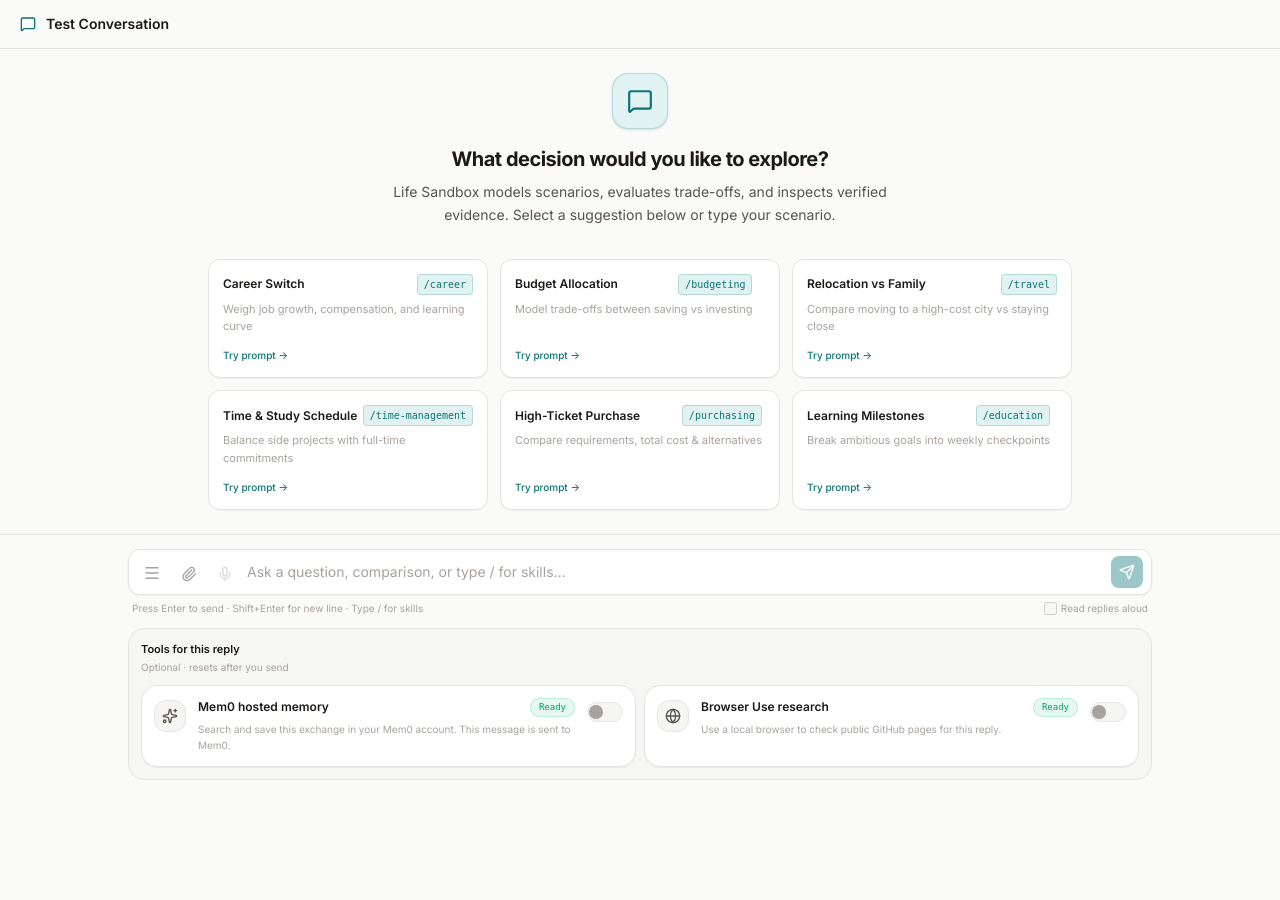
Chat Component Composer Controls (Issue #1) › displays Ready when configured and toggles On for this reply independently
Expected: the switch labelled "Browser Use research" is enabled, x1=644 y1=684 x2=1139 y2=766
Expected: the switch labelled "Browser Use research" is not checked, x1=644 y1=684 x2=1139 y2=766
// Toggle Mem0 switch
Click the switch labelled "Mem0 hosted memory" at (388, 726), box x1=141 y1=684 x2=636 y2=766
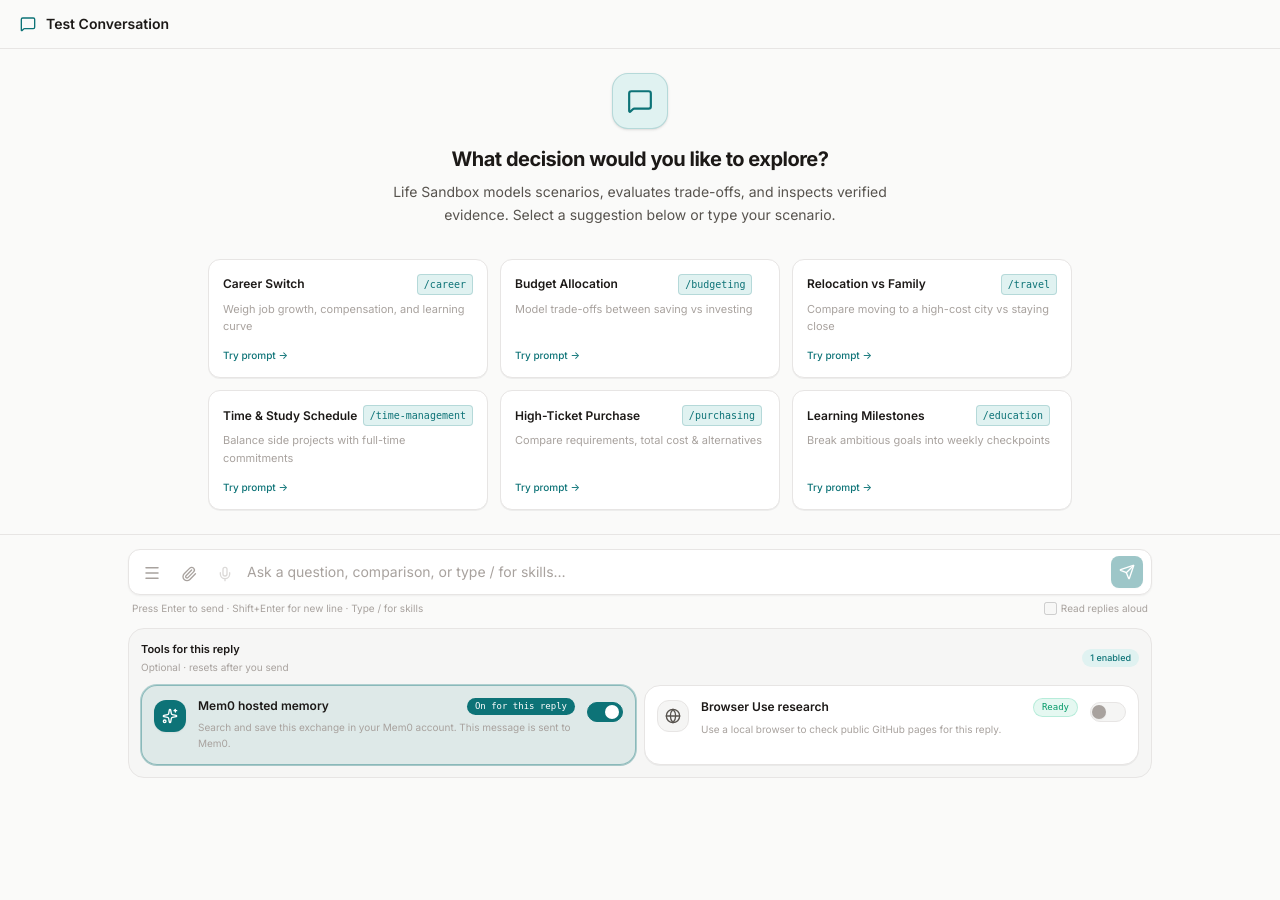
Expected: the switch labelled "Mem0 hosted memory" is checked, x1=141 y1=684 x2=636 y2=764
Expected: the text "On for this reply" is shown, x1=467 y1=698 x2=575 y2=715
Expected: the text "1 enabled" is shown, x1=1082 y1=649 x2=1139 y2=666
// Toggle Browser switch
Click the switch labelled "Browser Use research" at (892, 724), box x1=644 y1=684 x2=1139 y2=764
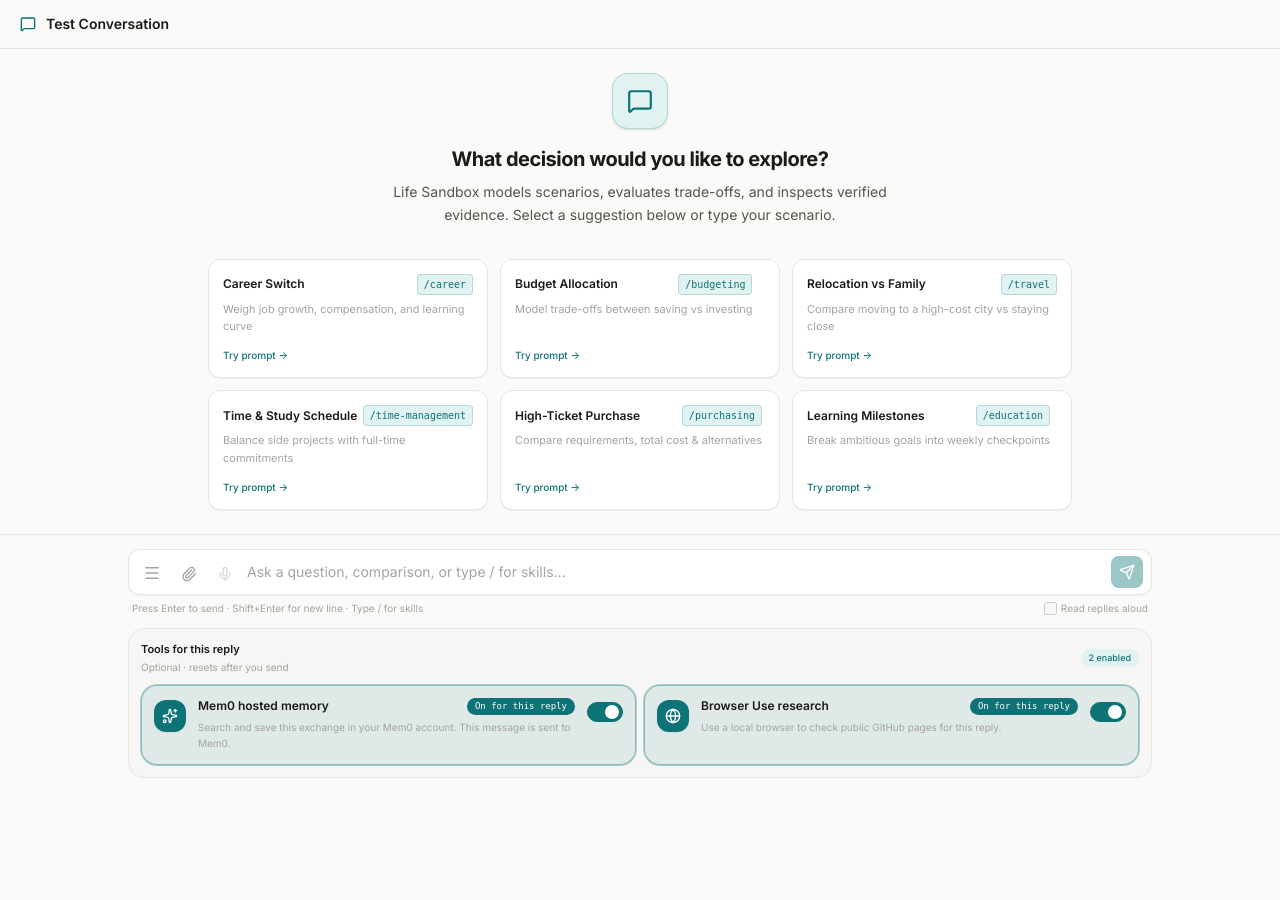
Expected: the text "On for this reply" is shown 2 times, x1=467 y1=698 x2=575 y2=715; x1=970 y1=698 x2=1078 y2=715
Expected: the switch labelled "Browser Use research" is checked, x1=644 y1=684 x2=1139 y2=764
Expected: the text "2 enabled" is shown, x1=1080 y1=649 x2=1139 y2=666
